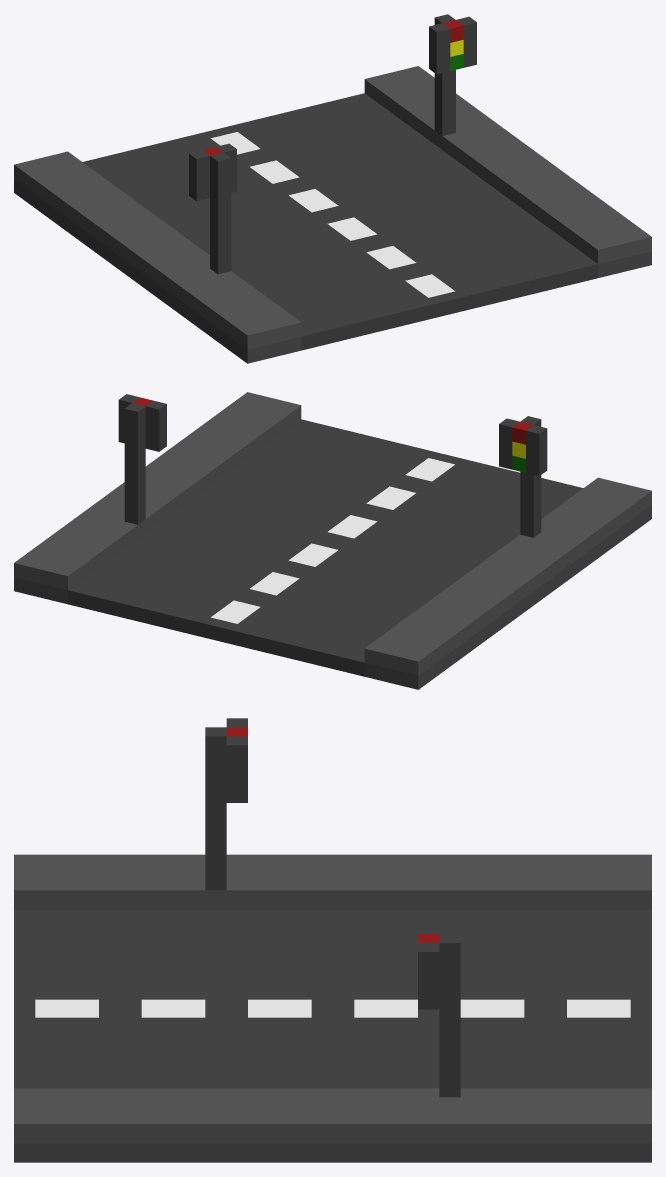
The model's file is roadTraficLight.obj.
3 renders of one model, top to bottom at view 1: azimuth 30°, elevation 25°; view 2: azimuth 150°, elevation 25°; view 3: azimuth 270°, elevation 25°, orthographic. The views are drawn at different scales.
Size of the model in its own units: 30 by 10 by 30.
1 material, 1 textured.
